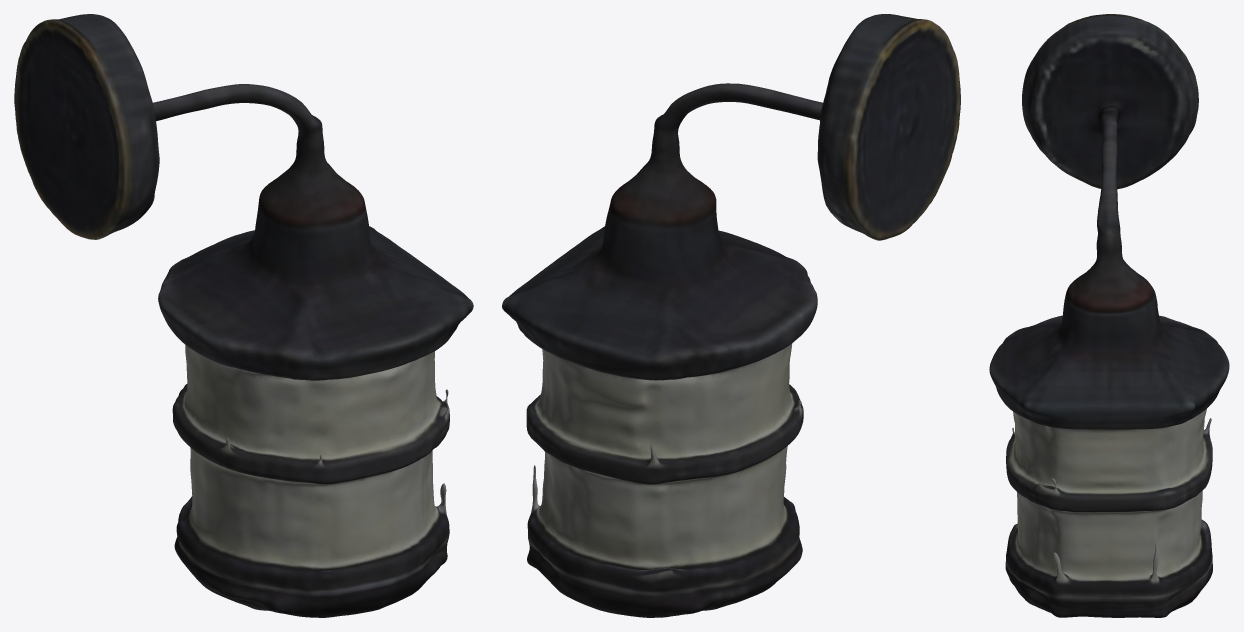
Rendered from 9d8cd003c878_lamp__3d_asset_0_gl.fbx.
3 renders of one model, left to right at view 1: azimuth 30°, elevation 25°; view 2: azimuth 150°, elevation 25°; view 3: azimuth 270°, elevation 25°, orthographic. The views are drawn at different scales.
Visible parts, largest first — view 1: high_poly; view 2: high_poly; view 3: high_poly.
Part boxes in pixels (bbox=[...]): high_poly: bbox=[14, 14, 473, 617]; high_poly: bbox=[502, 14, 960, 617]; high_poly: bbox=[989, 14, 1229, 617].
Bounding box in the file's own units: 62.4 × 100 × 45.38.
